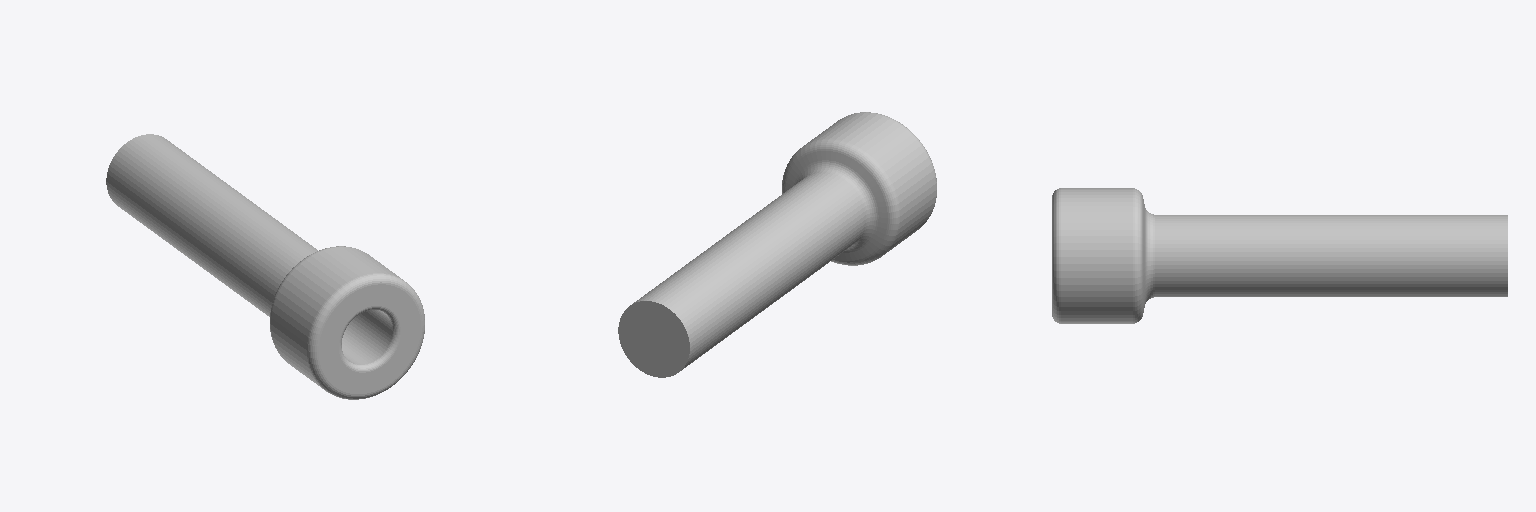
Rendered from CellshipTurret.obj.
The picture shows the model from 3 angles: view 1: azimuth 30°, elevation 25°; view 2: azimuth 150°, elevation 25°; view 3: azimuth 270°, elevation 25°; orthographic projection.
Parts seen in each view (by area): view 1: Cylinder; view 2: Cylinder; view 3: Cylinder.
Boxes of the visible parts, x1=… form: Cylinder: x1=106, y1=134, x2=424, y2=399; Cylinder: x1=618, y1=112, x2=936, y2=377; Cylinder: x1=1052, y1=188, x2=1507, y2=323.
Size of the model in its own units: 0.4233 by 0.4233 by 1.42.